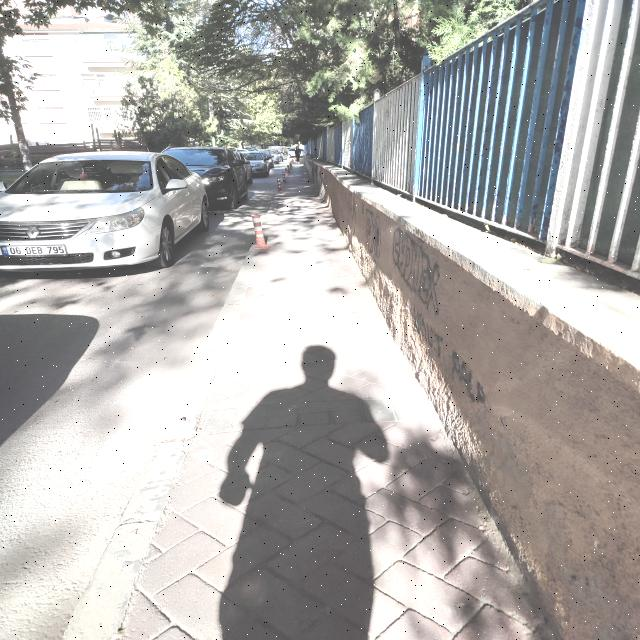sidewalk: (63, 169, 547, 640)
